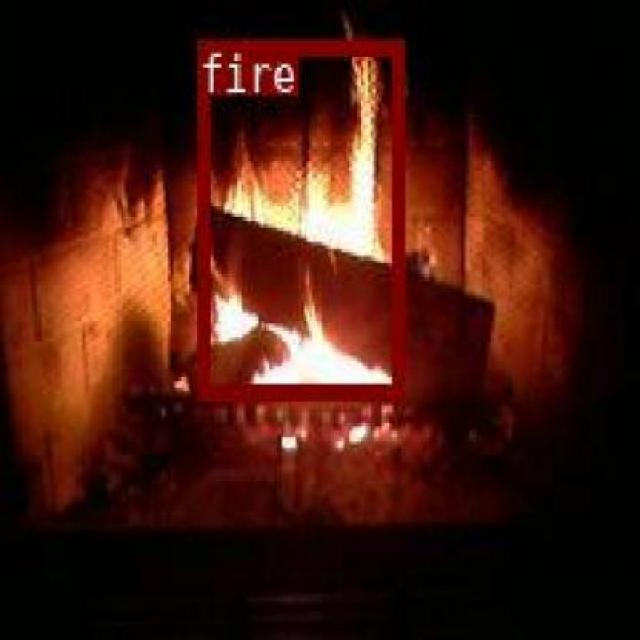Fire: (196, 38, 401, 396)
